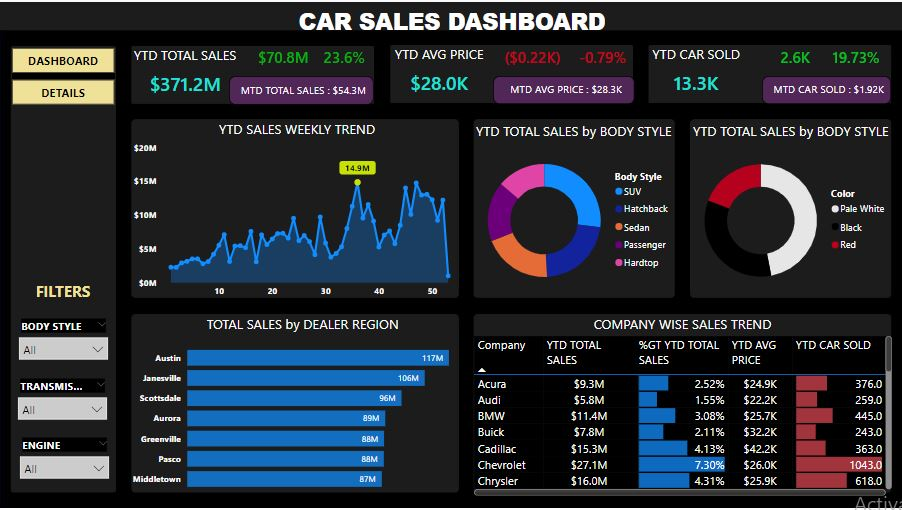

What the dashboard file says about the page in this screenshot:
{"tool":"powerbi","page":{"name":"DASHBOARD","canvas":[1280,720],"ordinal":0},"visuals":[{"type":"card","title":"YTD TOTAL SALES","fields":{"Values":["MEASURE TABLE.YTD TOTAL SALES"]},"box":[162.6,61.9,198.7,85.2],"z":0},{"type":"card","fields":{"Values":["MEASURE TABLE.SALES DIFFERENCE"]},"box":[332.9,58.1,136.8,42.6],"z":1000},{"type":"card","fields":{"Values":["MEASURE TABLE.YoY SALES GROWTH"]},"box":[419.4,58.1,136.8,42.6],"z":2000},{"type":"card","fields":{"Values":["MEASURE TABLE.MTD KPI"]},"box":[325.2,104.5,205.2,41.3],"z":3000},{"type":"card","title":"YTD AVG PRICE","fields":{"Values":["MEASURE TABLE.YTD AVG PRICE"]},"box":[522.6,60.6,198.7,85.2],"z":4000},{"type":"card","fields":{"Values":["MEASURE TABLE.AVG PRICE DIFF"]},"box":[686.5,58.1,136.8,42.6],"z":5000},{"type":"card","fields":{"Values":["MEASURE TABLE.YoY AVG PRICE GROWTH"]},"box":[784.5,58.1,136.8,42.6],"z":6000},{"type":"card","fields":{"Values":["MEASURE TABLE.MTD AVG PRICE KPI"]},"box":[698.1,104.5,201.3,40],"z":7000},{"type":"card","title":"YTD CAR SOLD","fields":{"Values":["MEASURE TABLE.YTD CAR SOLD"]},"box":[887.7,60.6,198.7,85.2],"z":8000},{"type":"card","fields":{"Values":["MEASURE TABLE.CAR SOLD DIFF"]},"box":[1058.1,58.1,136.8,42.6],"z":9000},{"type":"card","fields":{"Values":["MEASURE TABLE.YoY CAR SOLD GROWTH"]},"box":[1151,58.1,125.2,42.6],"z":10000},{"type":"card","fields":{"Values":["MEASURE TABLE.MTD CAR SOLD KPI"]},"box":[1080,104.5,183.2,40],"z":11000},{"type":"areaChart","title":"YTD SALES WEEKLY TREND","fields":{"Category":["CALENDAR TABLE.WEEK"],"Y":["Sum(car_data.Price ($))","MEASURE TABLE.MAX POINT AREA CHART"]},"box":[184.5,167.7,473.5,260.6],"z":12000},{"type":"donutChart","title":"YTD TOTAL SALES by BODY STYLE","fields":{"Category":["car_data.Body Style"],"Y":["MEASURE TABLE.YTD TOTAL SALES"]},"box":[665.8,170.3,294.2,254.2],"z":13000},{"type":"donutChart","title":"YTD TOTAL SALES by BODY STYLE","fields":{"Y":["MEASURE TABLE.YTD TOTAL SALES"],"Category":["car_data.Color"]},"box":[974.2,170.3,294.2,254.2],"z":14000},{"type":"clusteredBarChart","title":"TOTAL SALES by DEALER REGION","fields":{"Category":["car_data.Dealer_Region"],"Y":["MEASURE TABLE.TOTAL SALES"]},"box":[181.9,443.9,495.5,260.6],"z":15000},{"type":"tableEx","title":"COMPANY WISE SALES TREND","fields":{"Values":["car_data.Company","MEASURE TABLE.YTD TOTAL SALES","MEASURE TABLE.YTD TOTAL SALES1","MEASURE TABLE.YTD AVG PRICE","MEASURE TABLE.YTD CAR SOLD"]},"box":[665.8,443.9,602.6,260.6],"z":16000},{"type":"textbox","box":[409,0,462,58.1],"z":17000},{"type":"slicer","fields":{"Values":["car_data.Transmission"]},"box":[15.5,529,145.8,73.5],"z":18000},{"type":"slicer","fields":{"Values":["car_data.Body Style"]},"box":[16.8,443.9,145.8,74.8],"z":19000},{"type":"slicer","fields":{"Values":["car_data.Engine"]},"box":[18.1,611.6,145.8,72.3],"z":20000},{"type":"textbox","box":[16.8,389.7,144.5,38.7],"z":21000},{"type":"pageNavigator","box":[16.8,64.5,145.8,80],"z":22000}]}

Visuals, with their boxes in screenshot pixels (x1, y1, x2, y2), scaled from the page's 1280x720 canvas onto the 902x510 screenshot:
"YTD TOTAL SALES" card: x1=115, y1=44, x2=255, y2=104
card - MEASURE TABLE.SALES DIFFERENCE: x1=235, y1=41, x2=331, y2=71
card - MEASURE TABLE.YoY SALES GROWTH: x1=296, y1=41, x2=392, y2=71
card - MEASURE TABLE.MTD KPI: x1=229, y1=74, x2=374, y2=103
"YTD AVG PRICE" card: x1=368, y1=43, x2=508, y2=103
card - MEASURE TABLE.AVG PRICE DIFF: x1=484, y1=41, x2=580, y2=71
card - MEASURE TABLE.YoY AVG PRICE GROWTH: x1=553, y1=41, x2=649, y2=71
card - MEASURE TABLE.MTD AVG PRICE KPI: x1=492, y1=74, x2=634, y2=102
"YTD CAR SOLD" card: x1=626, y1=43, x2=766, y2=103
card - MEASURE TABLE.CAR SOLD DIFF: x1=746, y1=41, x2=842, y2=71
card - MEASURE TABLE.YoY CAR SOLD GROWTH: x1=811, y1=41, x2=899, y2=71
card - MEASURE TABLE.MTD CAR SOLD KPI: x1=761, y1=74, x2=890, y2=102
"YTD SALES WEEKLY TREND" areaChart: x1=130, y1=119, x2=464, y2=303
"YTD TOTAL SALES by BODY STYLE" donutChart: x1=469, y1=121, x2=676, y2=301
"YTD TOTAL SALES by BODY STYLE" donutChart: x1=687, y1=121, x2=894, y2=301
"TOTAL SALES by DEALER REGION" clusteredBarChart: x1=128, y1=314, x2=477, y2=499
"COMPANY WISE SALES TREND" tableEx: x1=469, y1=314, x2=894, y2=499
textbox: x1=288, y1=0, x2=614, y2=41
slicer - car_data.Transmission: x1=11, y1=375, x2=114, y2=427
slicer - car_data.Body Style: x1=12, y1=314, x2=115, y2=367
slicer - car_data.Engine: x1=13, y1=433, x2=115, y2=484
textbox: x1=12, y1=276, x2=114, y2=303
pageNavigator: x1=12, y1=46, x2=115, y2=102
